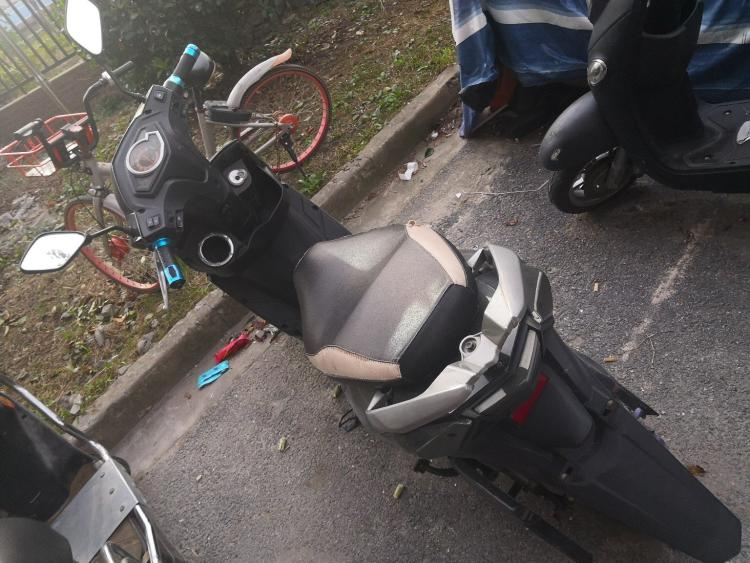电动车: (20, 1, 741, 558)
